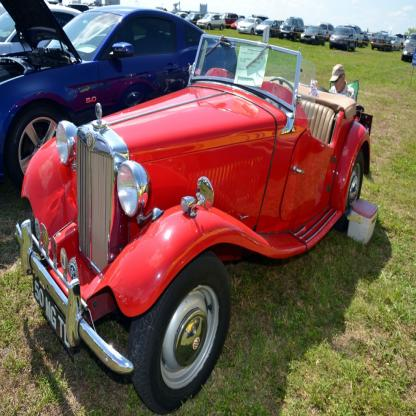Car: (17, 37, 374, 416), (1, 1, 238, 187), (331, 28, 359, 52), (301, 26, 327, 45)
